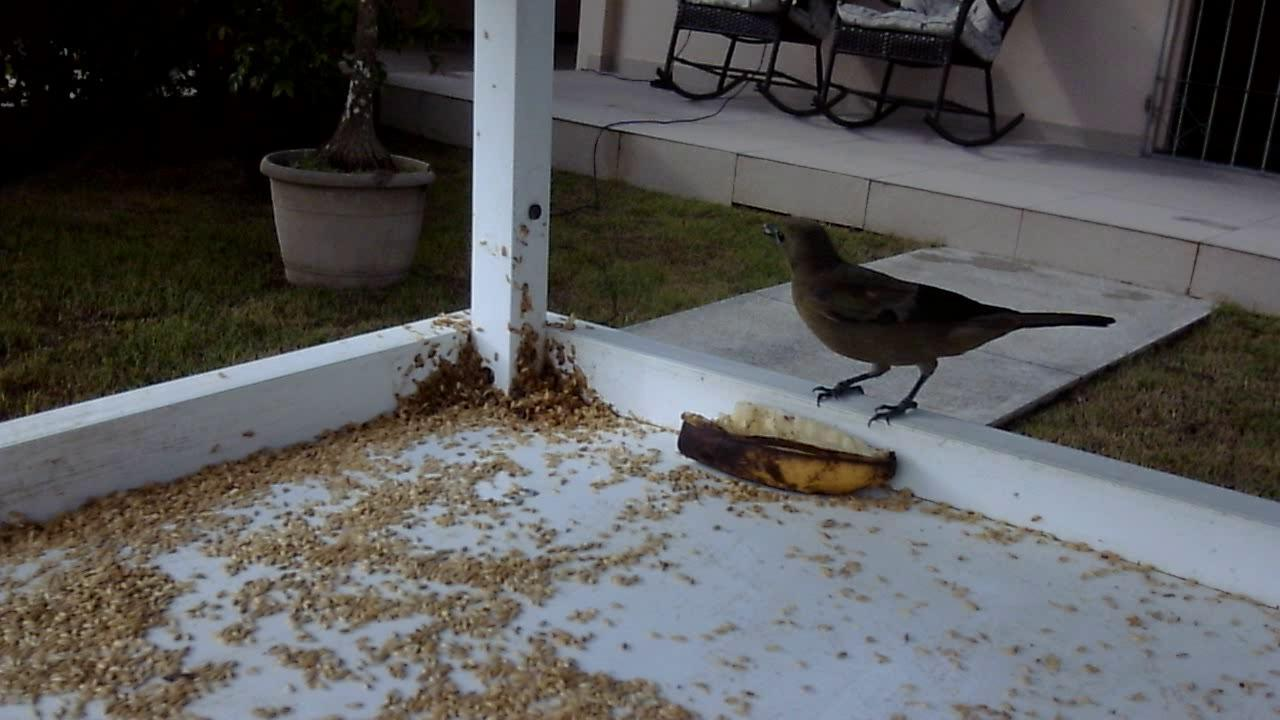sanhaco_do_coqueiro: (755, 215, 1123, 434)
